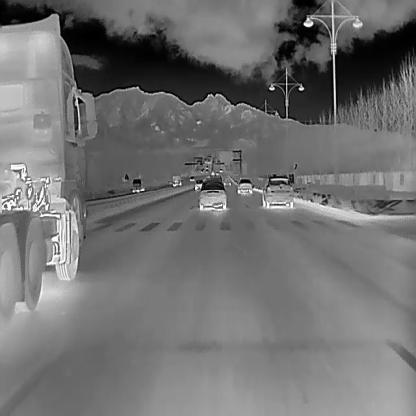car: (260, 176, 294, 208), (198, 179, 226, 209), (236, 177, 252, 193), (172, 175, 182, 187), (193, 178, 203, 189), (188, 175, 193, 182), (200, 167, 204, 173), (218, 167, 222, 173), (215, 171, 219, 176)
truck: (0, 11, 93, 318), (131, 177, 143, 192)
